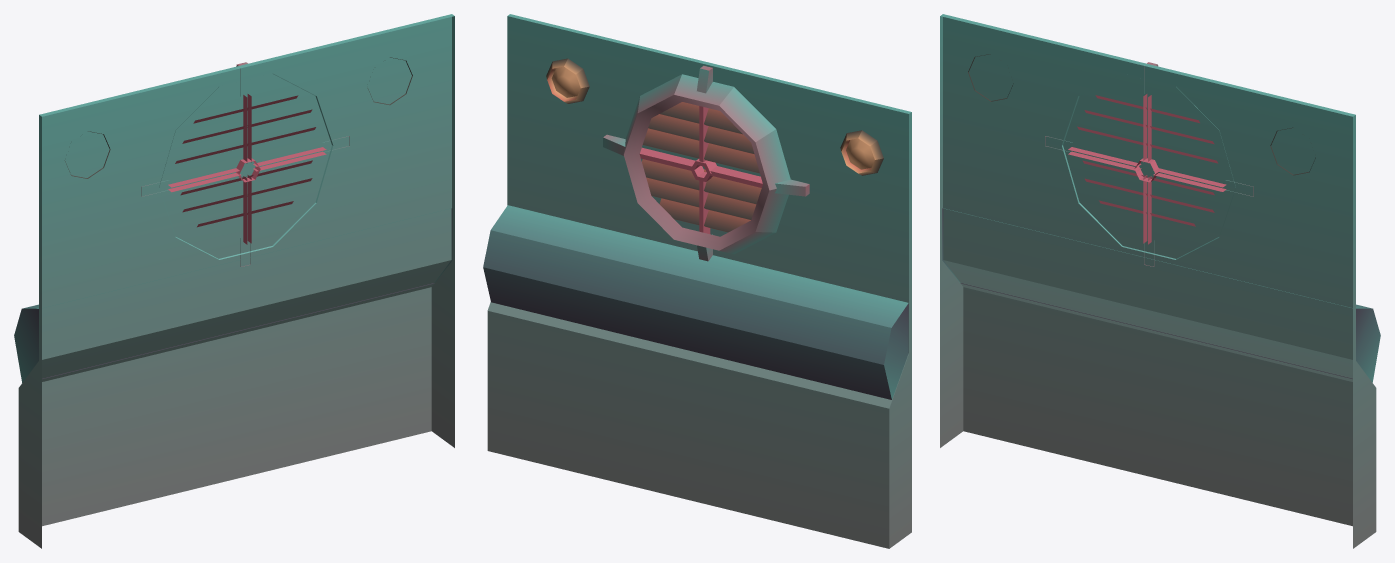
Rendered from Wall-03.fbx.
The picture shows the model from 3 angles, left to right: view 1: azimuth 30°, elevation 25°; view 2: azimuth 150°, elevation 25°; view 3: azimuth 330°, elevation 25°; orthographic projection. The views are drawn at different scales.
Visible parts, largest first — view 1: pCylinder32; view 2: pCylinder32; view 3: pCylinder32.
Part boxes in pixels (box(x1,y1,x2,y2)): pCylinder32: box(14, 14, 454, 548); pCylinder32: box(483, 14, 911, 548); pCylinder32: box(940, 14, 1380, 548).
Bounding box in the file's own units: 15 × 15 × 1.89.
Materials: 1 (1 with a texture image).
